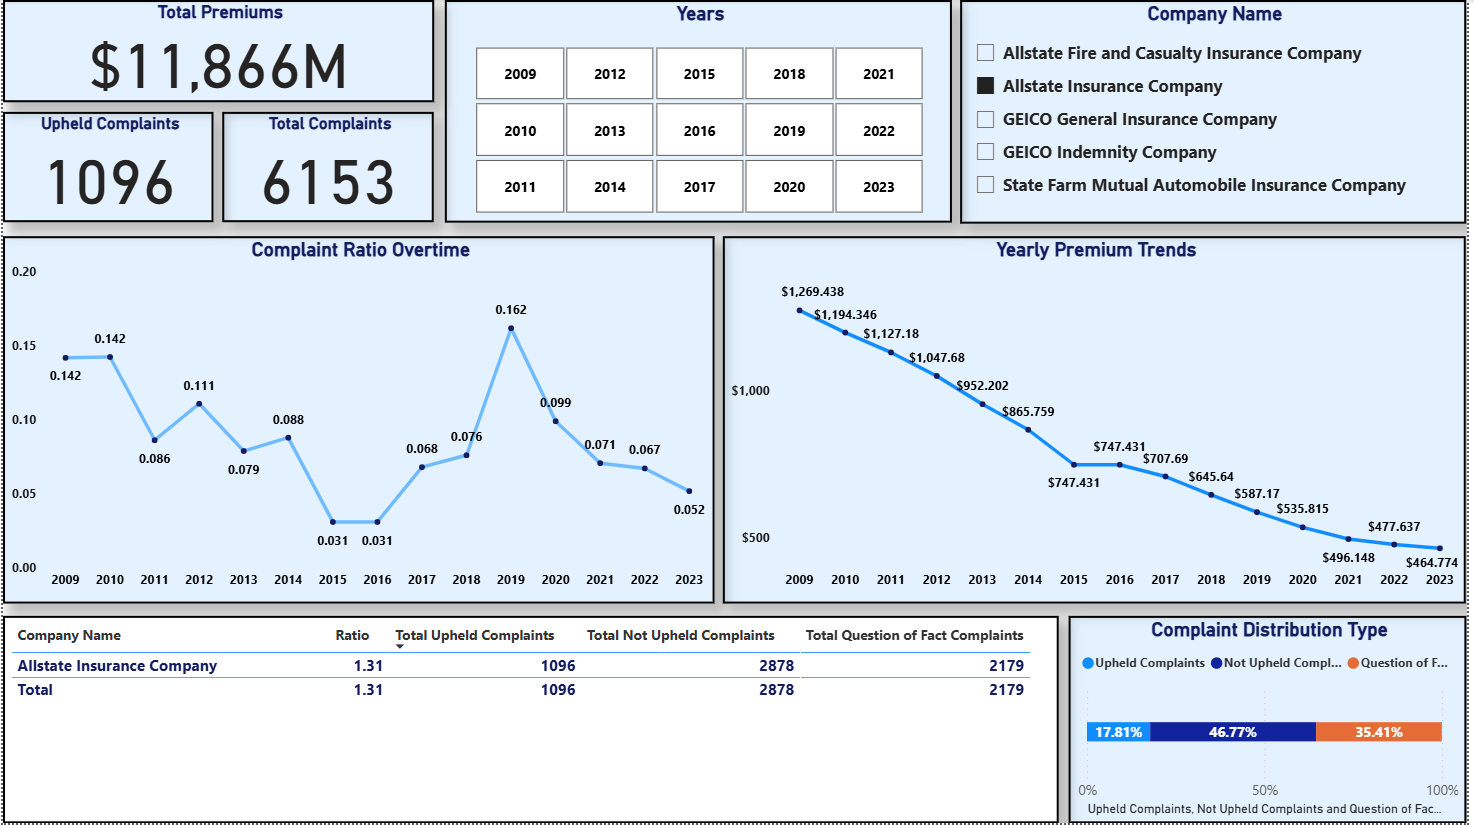

The page's visual inventory and layout, read from the dashboard file:
{"tool":"powerbi","page":{"name":"Allstate Insurance Company ","canvas":[1280,720],"ordinal":1},"visuals":[{"type":"slicer","title":"Company Name","fields":{"Values":["Selected_companies_5.Company_Name"]},"box":[837.1,0,442.4,195.4],"z":0},{"type":"lineChart","title":"Complaint Ratio Overtime","fields":{"Category":["Selected_companies_5.Years"],"Y":["Selected_companies_5.Complaint_Ratio (per million)"]},"box":[0,206.5,622.5,320.9],"z":1000},{"type":"lineChart","title":"Yearly Premium Trends","fields":{"Category":["Selected_companies_5.Years"],"Y":["Selected_companies_5.SUM_premium"]},"box":[629.6,206.5,649.9,320.9],"z":2000},{"type":"slicer","title":"Years","fields":{"Values":["Selected_companies_5.Filing_Year"]},"box":[386.3,0,443.6,194.6],"z":3000},{"type":"tableEx","fields":{"Values":["Selected_companies_5.Company_Name","Sum(Selected_companies_5.Ratio)","Sum(Selected_companies_5.Upheld_Complaints)","Sum(Selected_companies_5.Not_Upheld_Complaints)","Sum(Selected_companies_5.Question_of_Fact_Complaints)"]},"box":[0,538.5,923.2,181.2],"z":4000},{"type":"card","title":"Total Premiums","fields":{"Values":["Selected_companies_5.Total_Premium"]},"box":[0,0,376.6,89.1],"z":5000},{"type":"card","title":"Total Complaints","fields":{"Values":["Sum(Selected_companies_5.Total_Complaints)"]},"box":[191.3,98.2,185.2,96.2],"z":6000},{"type":"card","title":"Upheld Complaints","fields":{"Values":["Sum(Selected_companies_5.Upheld_Complaints)"]},"box":[0,98.2,184.2,96.2],"z":7000},{"type":"hundredPercentStackedBarChart","title":"Complaint Distribution Type","fields":{"Y":["Sum(Selected_companies_5.Upheld_Complaints)","Sum(Selected_companies_5.Not_Upheld_Complaints)","Sum(Selected_companies_5.Question_of_Fact_Complaints)"]},"box":[931.3,538.5,348.2,181.2],"z":8000}]}

Visuals, with their boxes in screenshot pixels (x1, y1, x2, y2), scaled from the page's 1280x720 canvas onto the 1474x827 screenshot:
"Company Name" slicer: <box>964,0,1473,224</box>
"Complaint Ratio Overtime" lineChart: <box>0,237,717,606</box>
"Yearly Premium Trends" lineChart: <box>725,237,1473,606</box>
"Years" slicer: <box>445,0,956,224</box>
tableEx - Selected_companies_5.Company_Name x Sum(Selected_companies_5.Ratio): <box>0,619,1063,826</box>
"Total Premiums" card: <box>0,0,434,102</box>
"Total Complaints" card: <box>220,113,434,223</box>
"Upheld Complaints" card: <box>0,113,212,223</box>
"Complaint Distribution Type" hundredPercentStackedBarChart: <box>1072,619,1473,826</box>
